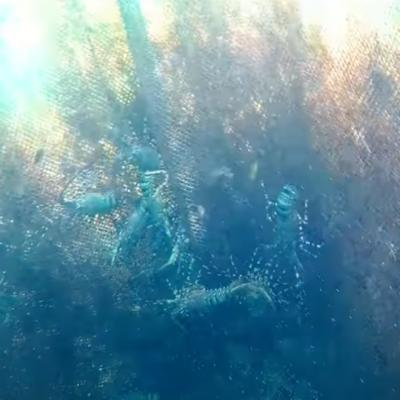lobster: (272, 188, 302, 262), (172, 287, 229, 323), (68, 192, 114, 224)
